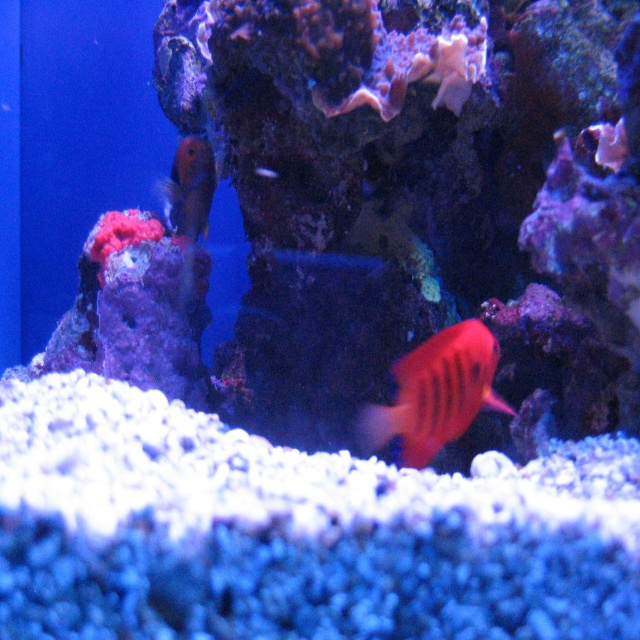Fish: (355, 317, 519, 468), (157, 138, 218, 245)
